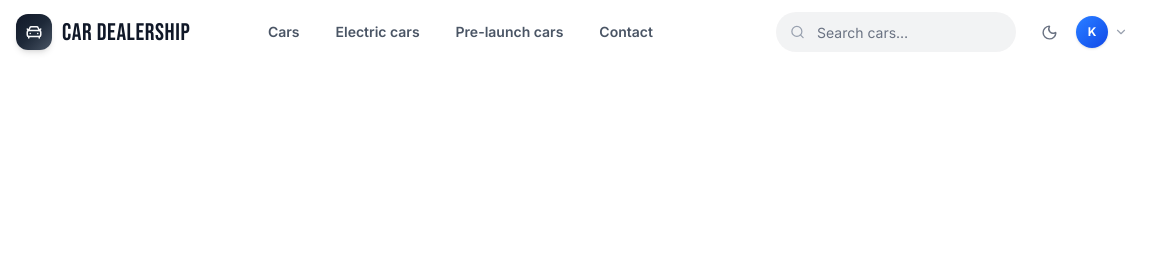
it: Navbar › shows the account menu instead of Login when logged in
Click the button named "account" at coordinates (1104, 32), box [1072,12,1136,52]
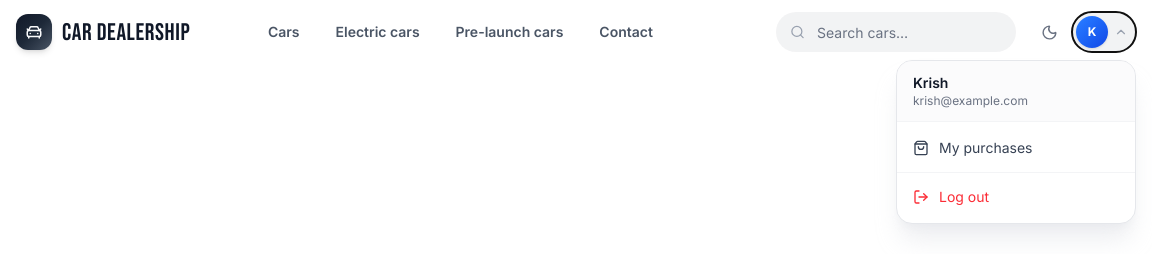
Check: the text "Krish" is shown, box [913,74,948,91]
Check: the link "My purchases" is shown, box [913,139,1032,156]
